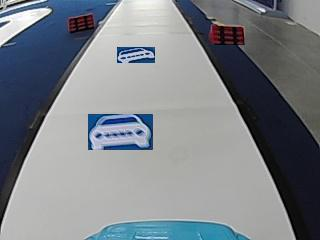bomb: (68, 12, 94, 30)
